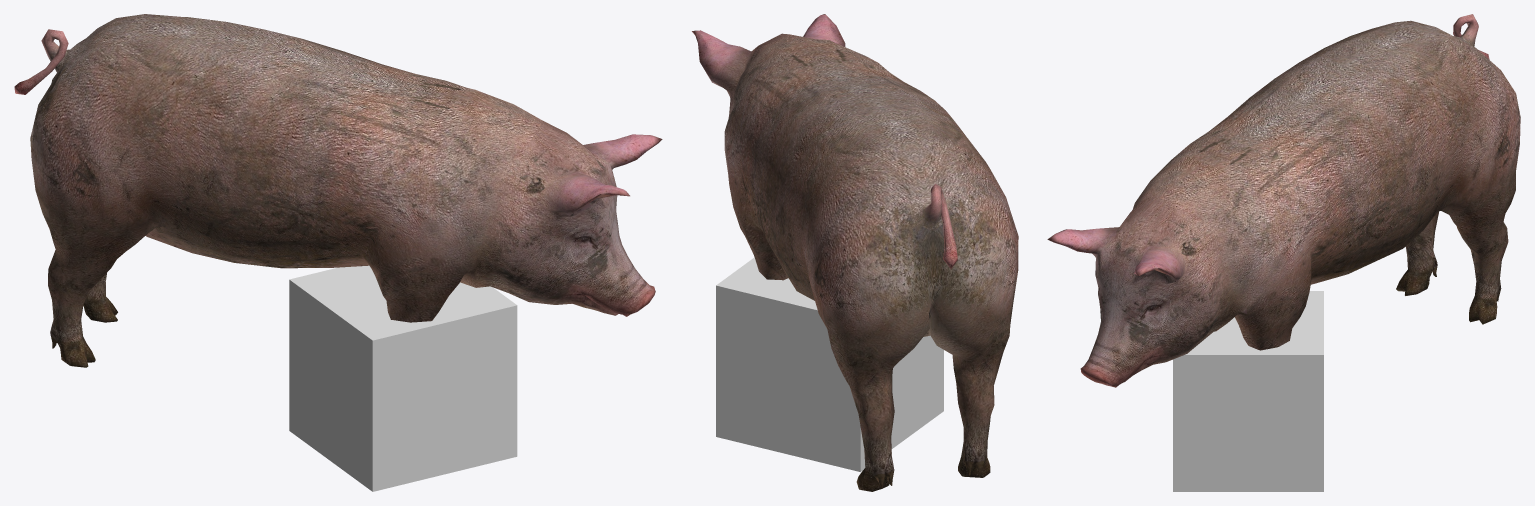
Rendered from pig_scale.glb.
3 renders of one model, left to right at view 1: azimuth 30°, elevation 25°; view 2: azimuth 150°, elevation 25°; view 3: azimuth 270°, elevation 25°, orthographic. The views are drawn at different scales.
Visible parts, largest first — view 1: Mesh_1244_Material #25_0, Cube; view 2: Mesh_1244_Material #25_0, Cube; view 3: Mesh_1244_Material #25_0, Cube.
Part boxes in pixels (x1,y1,x2,y2): Mesh_1244_Material #25_0: (14, 14, 662, 367); Cube: (289, 265, 517, 491); Mesh_1244_Material #25_0: (692, 14, 1018, 491); Cube: (716, 257, 943, 471); Mesh_1244_Material #25_0: (1047, 14, 1520, 387); Cube: (1173, 291, 1323, 491).
Bounding box in the file's own units: 6.49 × 5.17 × 6.26.
2 materials, 1 textured.
